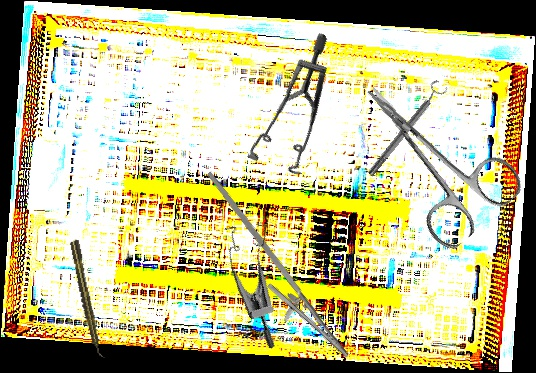Fixation Ring: (362, 78, 450, 180)
Handpiece: (68, 238, 105, 360)
Iris Scissors: (332, 51, 530, 256)
Needle Holder: (174, 170, 370, 371)
Speculum: (213, 31, 383, 194), (204, 210, 321, 350)
